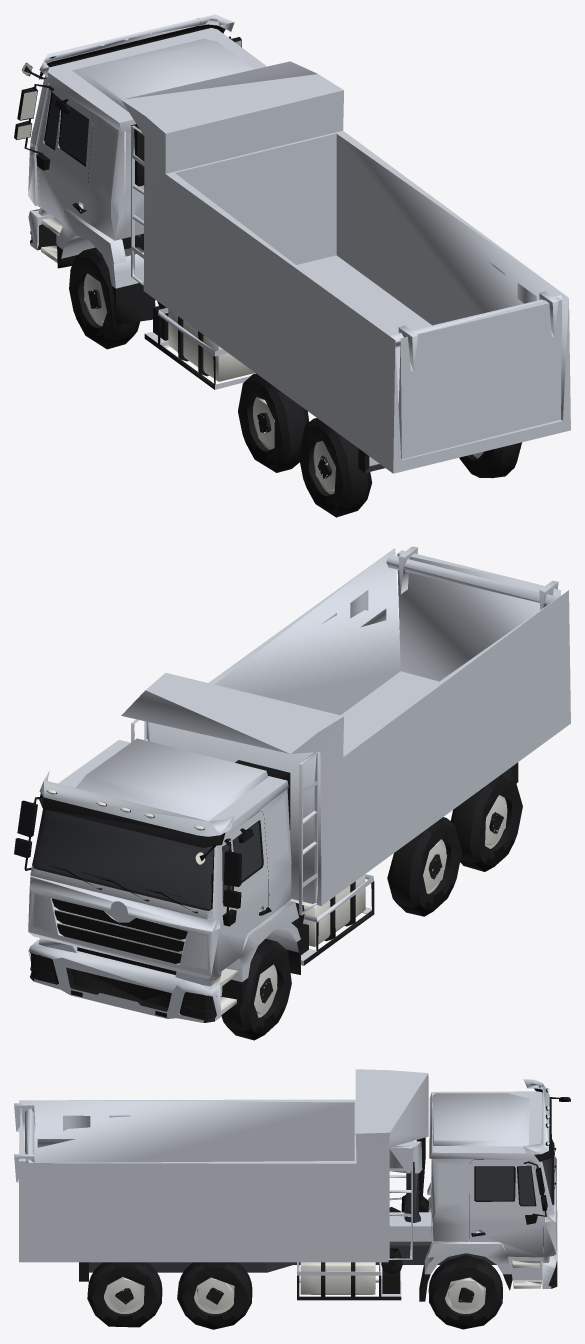
Rendered from truck_dump.glb.
3 views of the same model, one above another, from view 1: azimuth 30°, elevation 25°; view 2: azimuth 150°, elevation 25°; view 3: azimuth 270°, elevation 25° (orthographic). The views are drawn at different scales.
Parts seen in each view (by area): view 1: body; view 2: body; view 3: body.
Boxes of the visible parts, x1,y1,x2,y2 form: body: (14, 14, 570, 517); body: (14, 546, 570, 1040); body: (14, 1069, 570, 1329).
Size of the model in its own units: 2.96 by 3.37 by 8.58.
2 materials, 1 textured.
